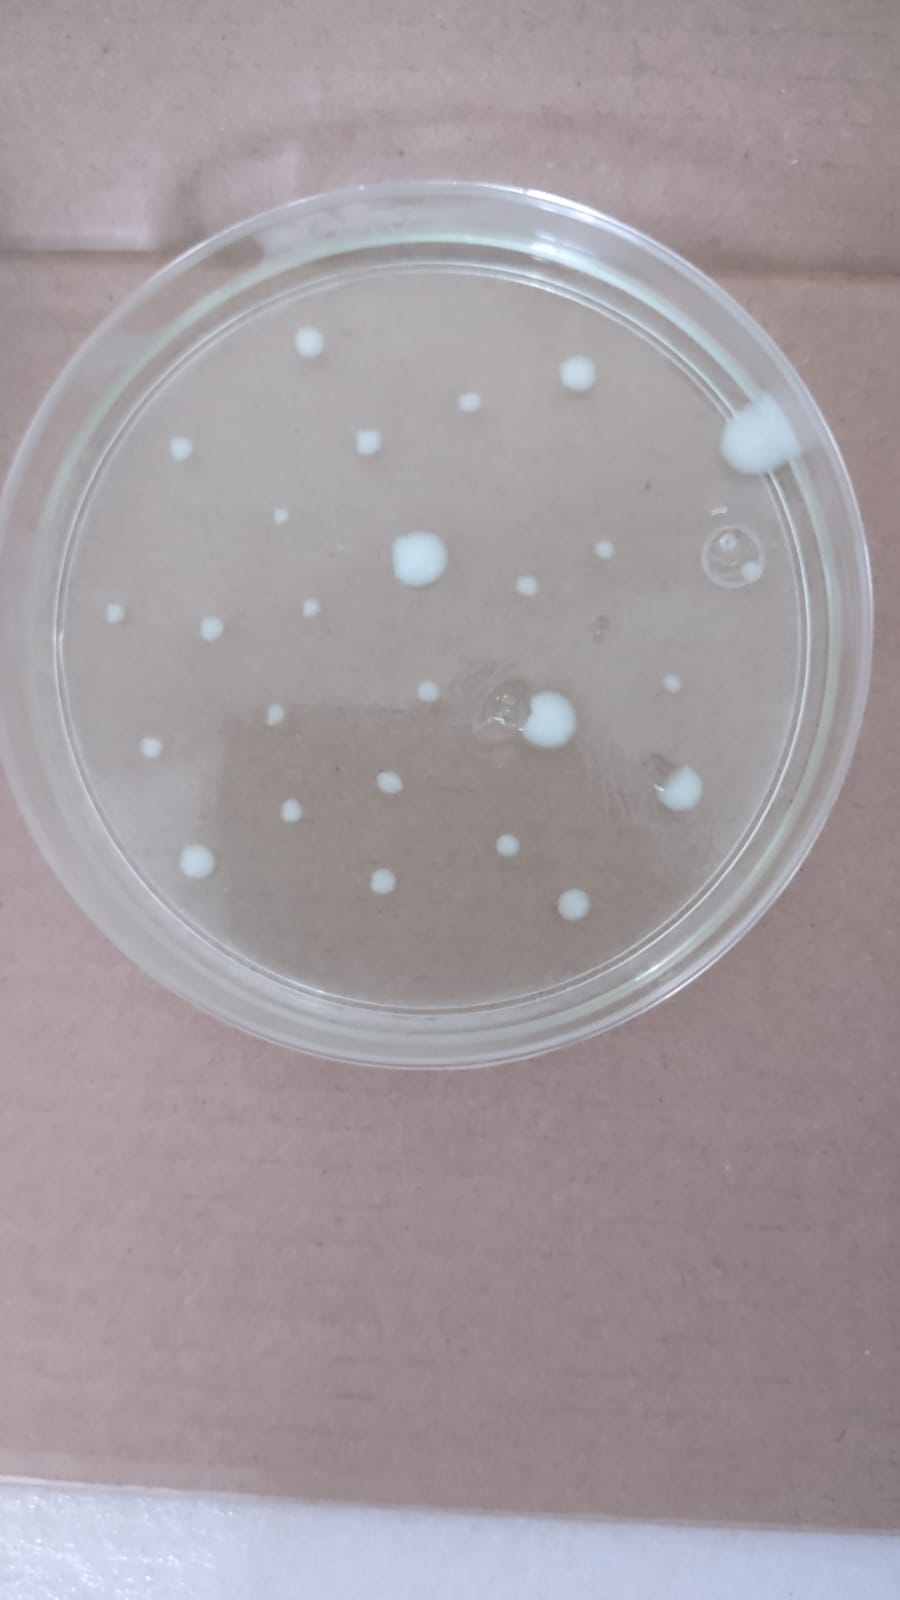Colonia: (715, 385, 802, 484), (520, 680, 586, 759), (386, 533, 452, 588), (660, 763, 703, 813), (563, 347, 599, 395), (553, 886, 592, 918), (353, 425, 385, 459), (370, 863, 400, 897), (293, 327, 327, 355), (496, 827, 524, 859), (374, 769, 408, 796), (180, 847, 212, 875), (277, 798, 308, 824), (515, 575, 548, 599), (140, 732, 166, 758), (460, 386, 484, 415), (591, 538, 620, 562), (266, 702, 290, 729), (656, 673, 684, 695), (195, 621, 229, 638), (298, 598, 325, 618), (168, 438, 190, 463), (416, 682, 443, 702), (102, 604, 127, 623), (271, 505, 288, 520)
